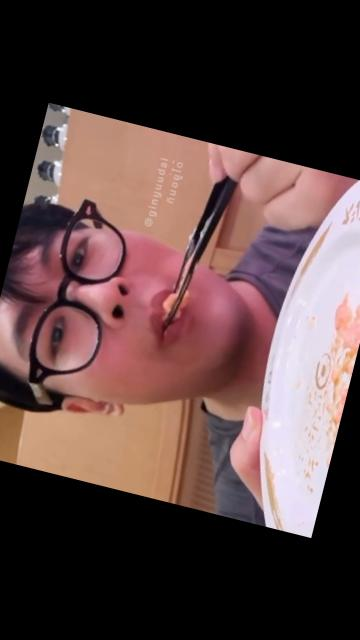janwhite: (226, 167, 360, 538)
